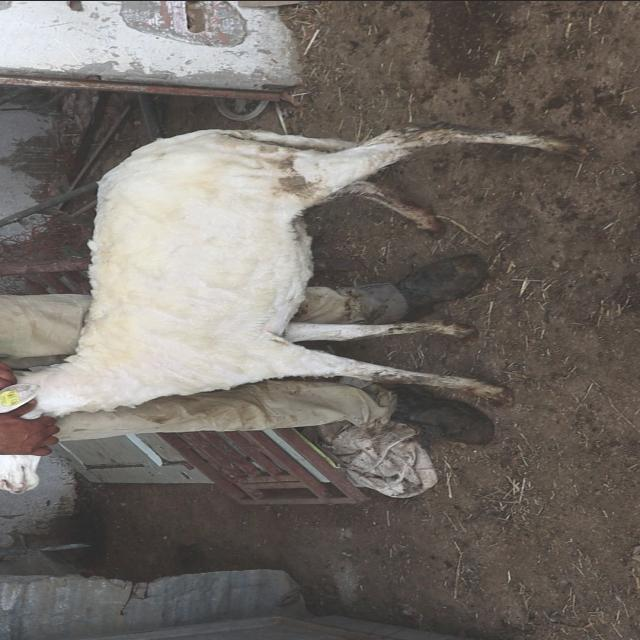Score_4: (0, 124, 577, 419)
